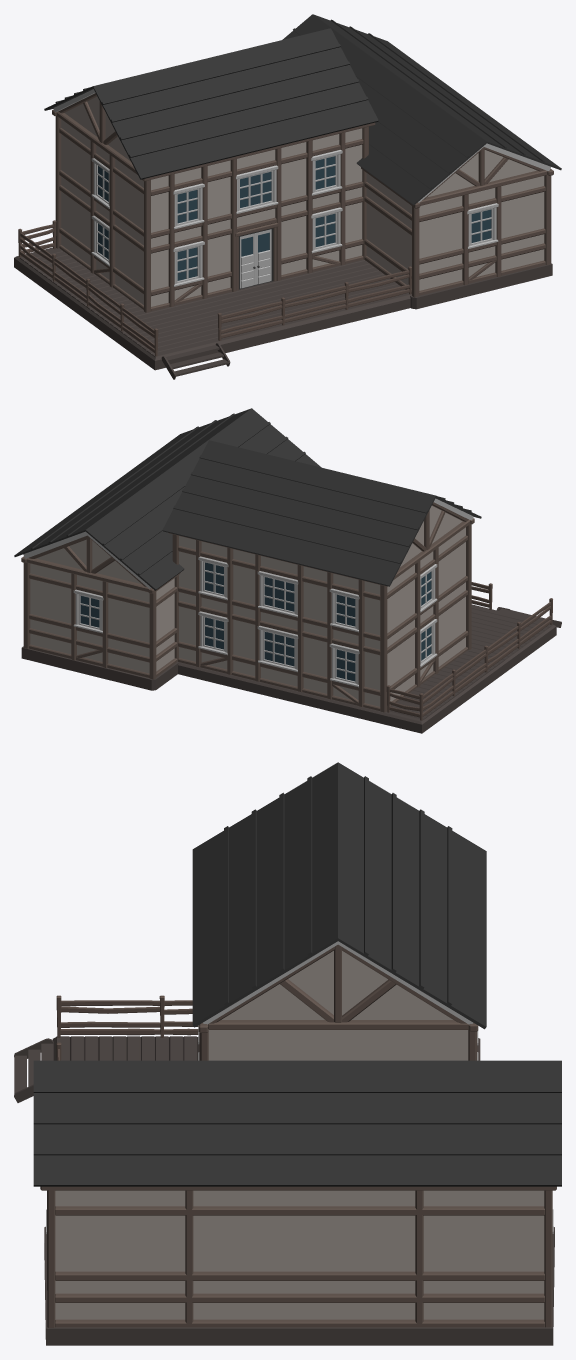
The model's file is house1.fbx.
3 views of the same model, one above another, from view 1: azimuth 30°, elevation 25°; view 2: azimuth 150°, elevation 25°; view 3: azimuth 270°, elevation 25° (orthographic). The views are drawn at different scales.
Parts seen in each view (by area): view 1: house_13; view 2: house_13; view 3: house_13.
Part boxes in pixels (left/top/right/bottom): house_13: left=14, top=14, right=561, bottom=379; house_13: left=14, top=408, right=561, bottom=733; house_13: left=14, top=762, right=561, bottom=1345.
Bounding box in the file's own units: 1846 × 925 × 1442.
Materials: 1 (1 with a texture image).
